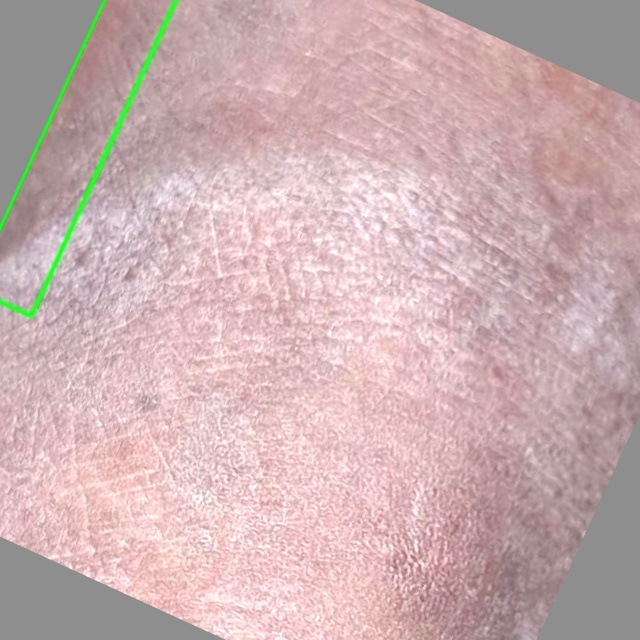Contact Dermatitis: (0, 0, 175, 316)
